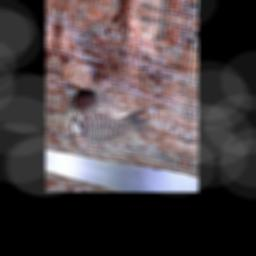Woodpecker: (68, 92, 148, 153)
